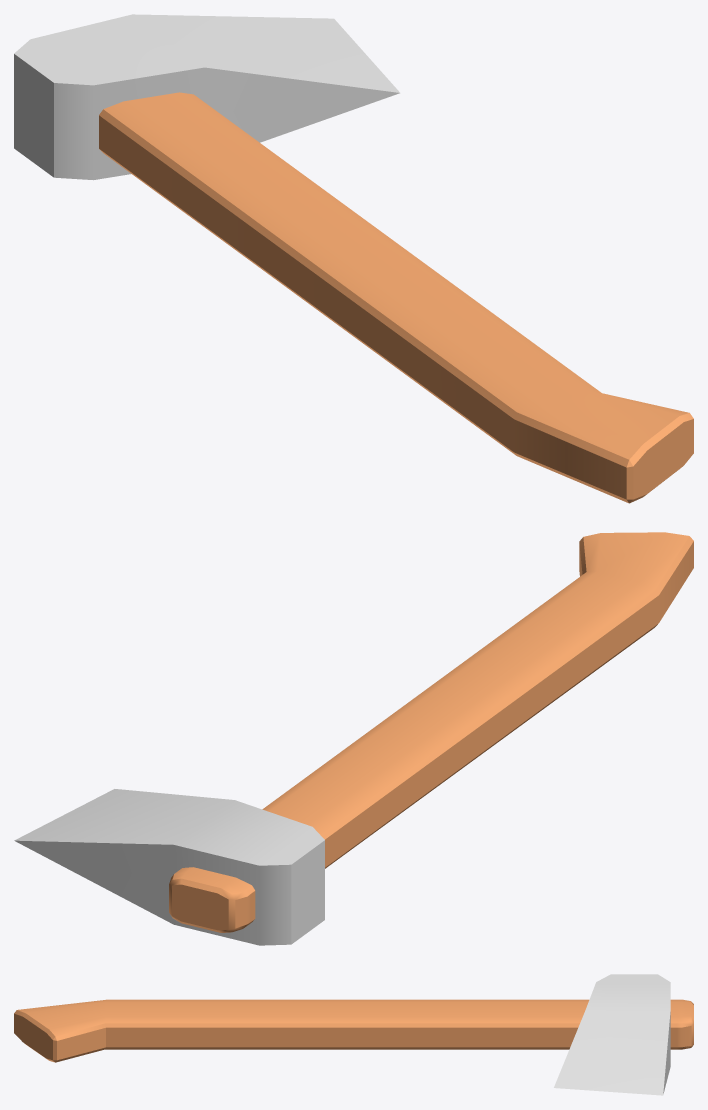
The model's file is Axe_02.fbx.
The picture shows the model from 3 angles, top to bottom: view 1: azimuth 30°, elevation 25°; view 2: azimuth 150°, elevation 25°; view 3: azimuth 270°, elevation 25°; orthographic projection. The views are drawn at different scales.
Visible parts, largest first — view 1: Axe_02; view 2: Axe_02; view 3: Axe_02.
Boxes of the visible parts, x1=… form: Axe_02: x1=14, y1=14, x2=693, y2=503; Axe_02: x1=14, y1=532, x2=693, y2=945; Axe_02: x1=14, y1=974, x2=693, y2=1095.
Bounding box in the file's own units: 3.58 × 1 × 11.03.
